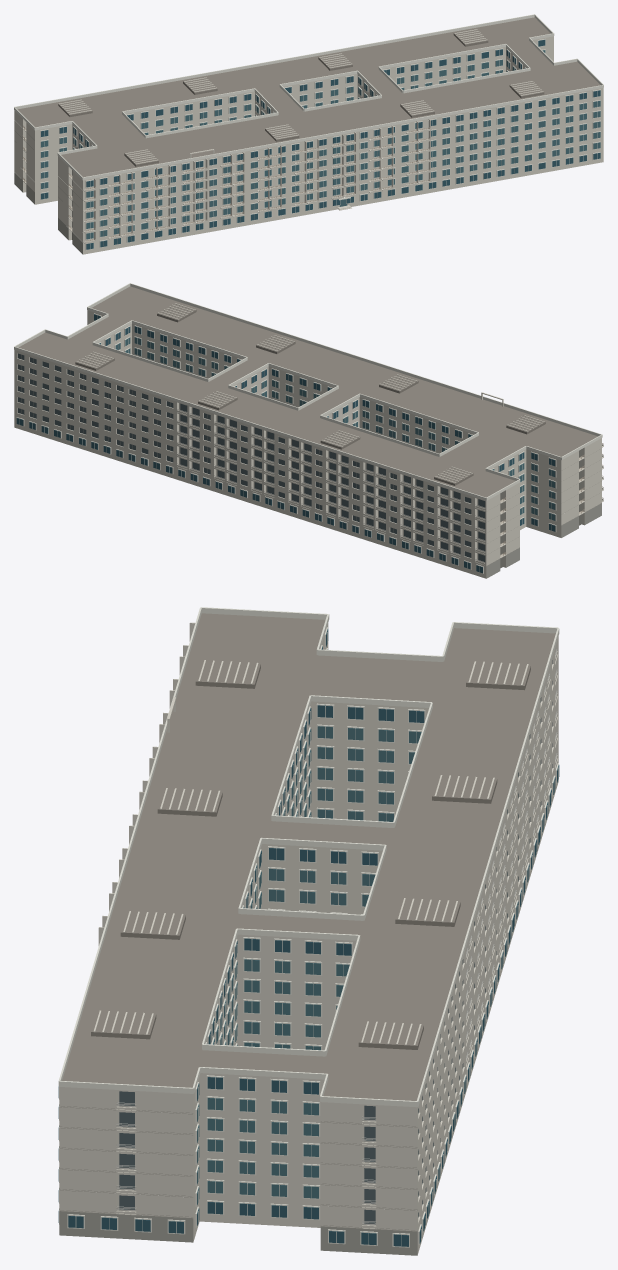
Rendered from chunk-dorm-relation-12874254.glb.
3 renders of one model, top to bottom at view 1: azimuth 30°, elevation 25°; view 2: azimuth 150°, elevation 25°; view 3: azimuth 270°, elevation 25°, orthographic. The views are drawn at different scales.
Visible parts, largest first — view 1: chunk-dorm-relation-12874254; view 2: chunk-dorm-relation-12874254; view 3: chunk-dorm-relation-12874254.
Part boxes in pixels (left/top/right/bottom): chunk-dorm-relation-12874254: left=14, top=14, right=603, bottom=254; chunk-dorm-relation-12874254: left=14, top=283, right=603, bottom=578; chunk-dorm-relation-12874254: left=58, top=607, right=559, bottom=1255.
Bounding box in the file's own units: 160 × 24.51 × 68.29.
11 materials, 1 textured.
